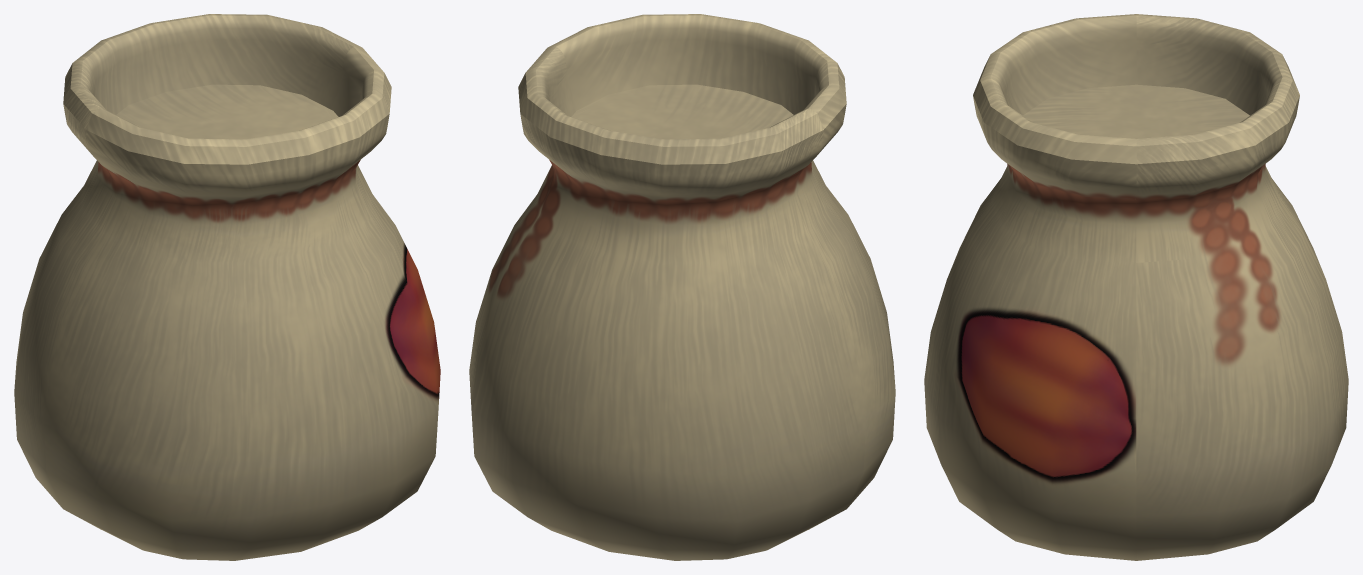
File: Model_TexturaSacoAberto1Cacau_v1.fbx
3 renders of one model, left to right at view 1: azimuth 30°, elevation 25°; view 2: azimuth 150°, elevation 25°; view 3: azimuth 270°, elevation 25°, orthographic.
Visible parts, largest first — view 1: saco cheio.003; view 2: saco cheio.003; view 3: saco cheio.003.
Part boxes in pixels (x1=…): saco cheio.003: x1=14, y1=14, x2=440, y2=560; saco cheio.003: x1=469, y1=14, x2=895, y2=560; saco cheio.003: x1=924, y1=14, x2=1348, y2=560.
Size of the model in its own units: 236 by 268 by 236.
